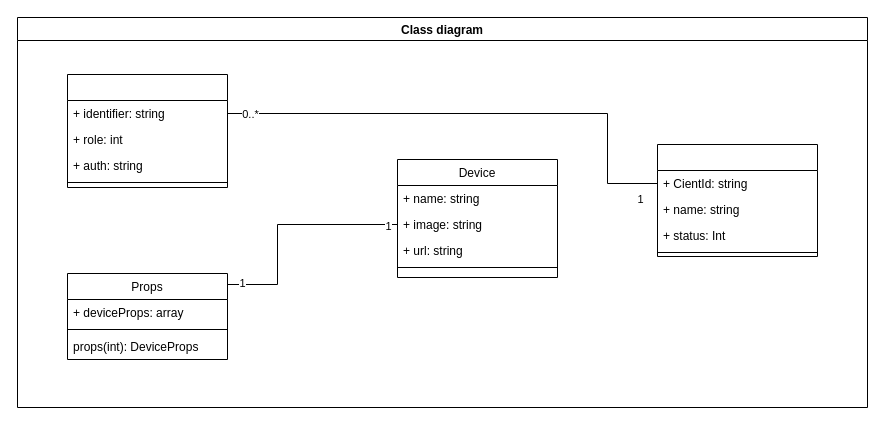
The diagram is 885 pixels wide and 425 high, and some of its shapes have lost their labels. The box of each missing label's shape, as (x1, y1, x2, y2) in pixels:
Cient: (66, 74, 228, 188)
User: (656, 144, 818, 256)
